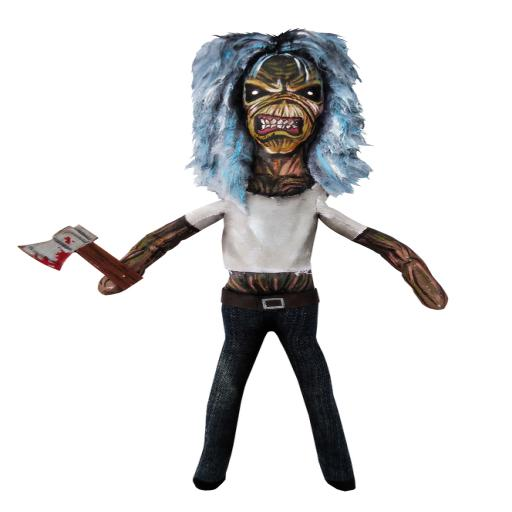Axe: (18, 225, 141, 291)
